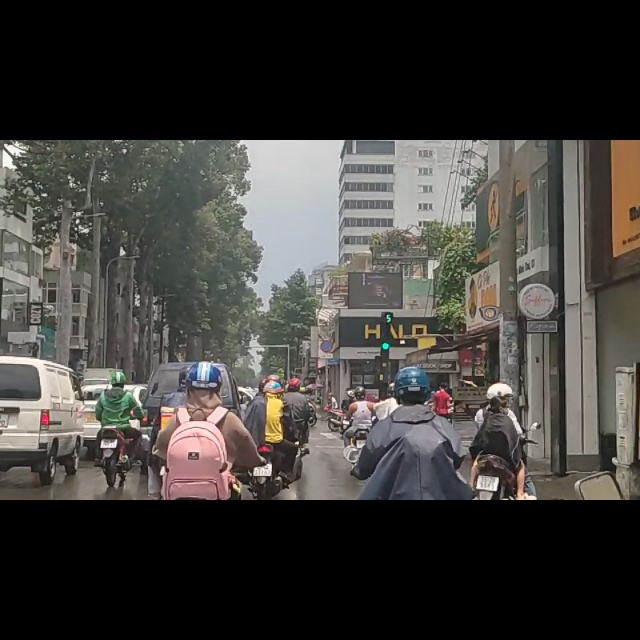bien_cam: (319, 354, 335, 379)
